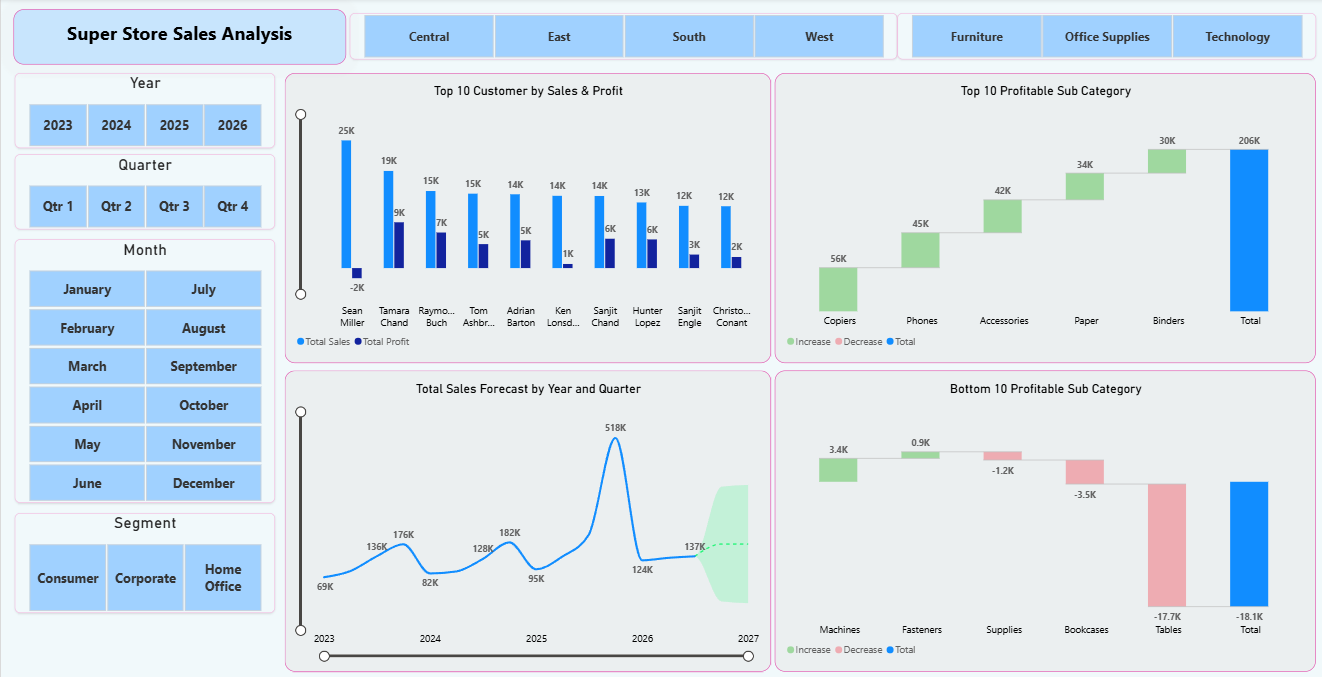

What the dashboard file says about the page in this screenshot:
{"tool":"powerbi","page":{"name":"Page 2","canvas":[1920,1080],"ordinal":1},"visuals":[{"type":"textbox","box":[18.1,16.3,481.4,79.6],"z":7000},{"type":"slicer","fields":{"Values":["Superstore.Region"]},"box":[504.9,21.7,792.6,67],"z":9000},{"type":"slicer","fields":{"Values":["Superstore.Category"]},"box":[1297.5,21.7,606.2,67],"z":10000},{"type":"slicer","title":"Year","fields":{"Values":["Superstore.Ship Date.Variation.Date Hierarchy.Year"]},"box":[19.5,108.8,376.4,108.6],"z":11000},{"type":"slicer","title":"Quarter","fields":{"Values":["Superstore.Ship Date.Variation.Date Hierarchy.Quarter"]},"box":[19.5,226.4,376.4,108.6],"z":12000},{"type":"slicer","title":"Month","fields":{"Values":["Superstore.Ship Date.Variation.Date Hierarchy.Month"]},"box":[19.5,348.9,376.4,381.8],"z":13000},{"type":"slicer","title":"Segment","fields":{"Values":["Superstore.Segment"]},"box":[19.5,745.2,376.4,144.8],"z":14000},{"type":"clusteredColumnChart","title":"Top 10 Customer by Sales & Profit","fields":{"Category":["Superstore.Customer Name"],"Y":["All_Measures.Total Sales","All_Measures.Total Profit"]},"box":[410.8,108.6,704,419.8],"z":14001},{"type":"waterfallChart","title":"Top 10 Profitable Sub Category","fields":{"Category":["Superstore.Sub-Category"],"Y":["All_Measures.Total Profit"]},"box":[1120.2,108.6,783.6,419.8],"z":14002},{"type":"waterfallChart","title":"Bottom 10 Profitable Sub Category","fields":{"Category":["Superstore.Sub-Category"],"Y":["All_Measures.Total Profit"]},"box":[1120.2,539.3,783.6,436.1],"z":14003},{"type":"lineChart","title":"Total Sales Forecast by Year and Quarter","fields":{"Category":["Superstore.Ship Date.Variation.Date Hierarchy.Year","Superstore.Ship Date.Variation.Date Hierarchy.Quarter"],"Y":["All_Measures.Total Sales"]},"box":[410.8,539.3,704,436.1],"z":14004}]}

Visuals, with their boxes on the page's 1920x1080 design canvas (x1, y1, x2, y2). These are canvas units, not pixel positions in the 1322x677 screenshot, which may show the page scaled, cropped or inside an application window:
textbox: l=18, t=16, r=500, b=96
slicer - Superstore.Region: l=505, t=22, r=1298, b=89
slicer - Superstore.Category: l=1298, t=22, r=1904, b=89
"Year" slicer: l=20, t=109, r=396, b=217
"Quarter" slicer: l=20, t=226, r=396, b=335
"Month" slicer: l=20, t=349, r=396, b=731
"Segment" slicer: l=20, t=745, r=396, b=890
"Top 10 Customer by Sales & Profit" clusteredColumnChart: l=411, t=109, r=1115, b=528
"Top 10 Profitable Sub Category" waterfallChart: l=1120, t=109, r=1904, b=528
"Bottom 10 Profitable Sub Category" waterfallChart: l=1120, t=539, r=1904, b=975
"Total Sales Forecast by Year and Quarter" lineChart: l=411, t=539, r=1115, b=975
